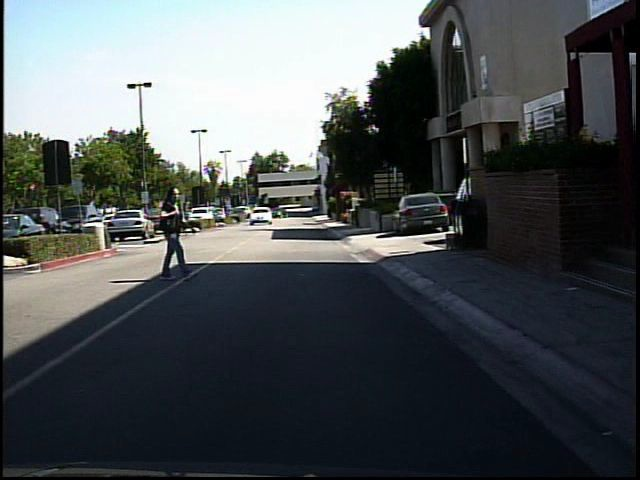person: (149, 180, 196, 283)
